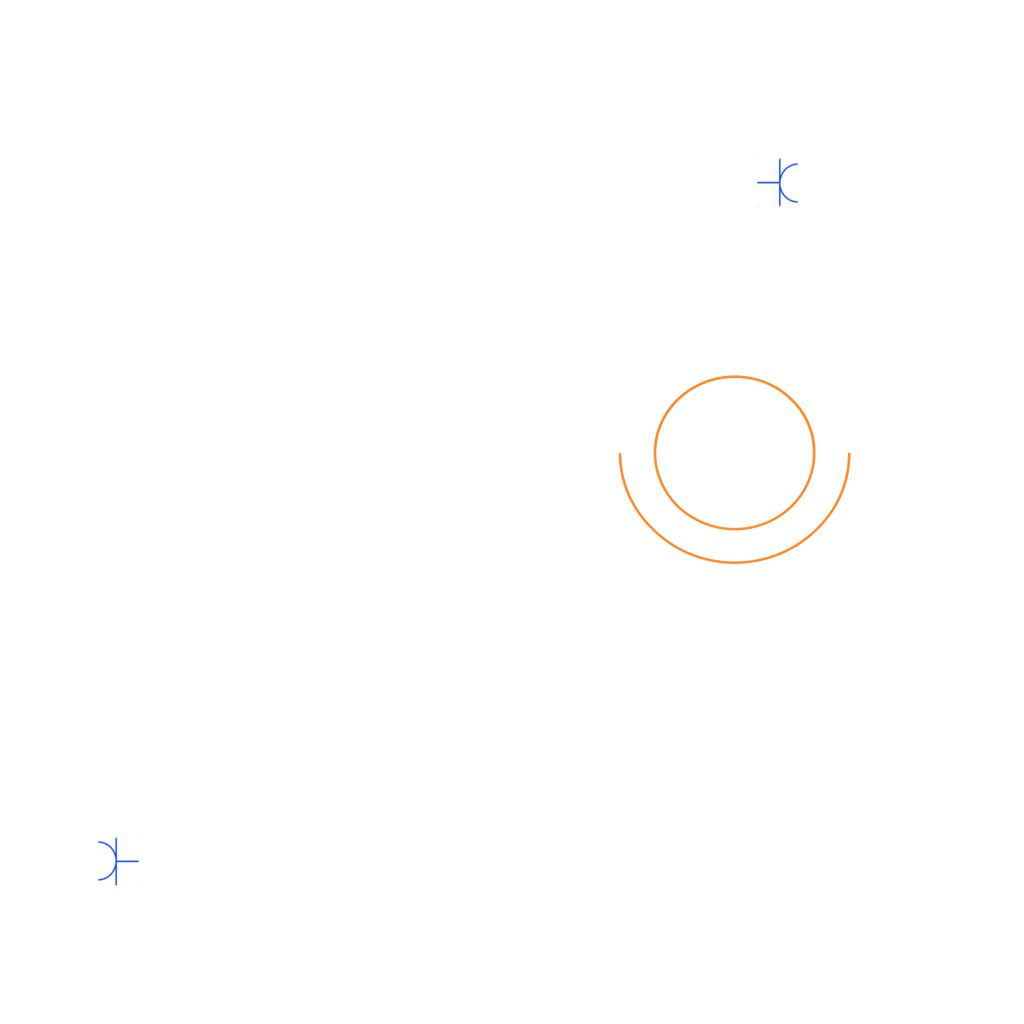Scheinwerfer_fuer_Alarmbeleuchtung: (609, 350, 873, 575)
Schukosteckdose_einfach: (96, 836, 139, 886), (757, 158, 800, 208)
